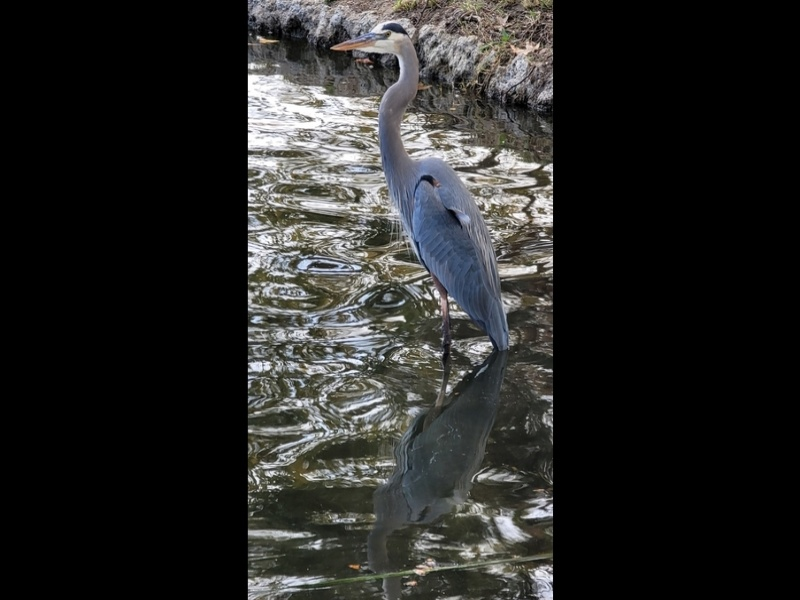heron: (328, 22, 512, 372)
